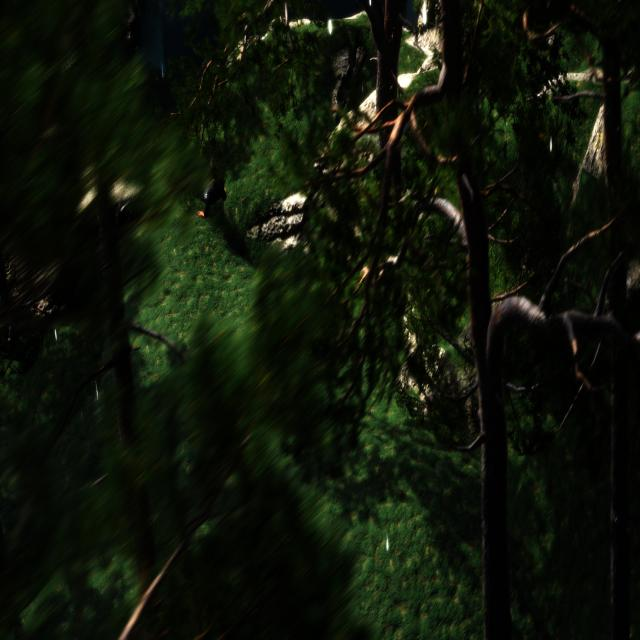Human: (187, 158, 229, 218)
